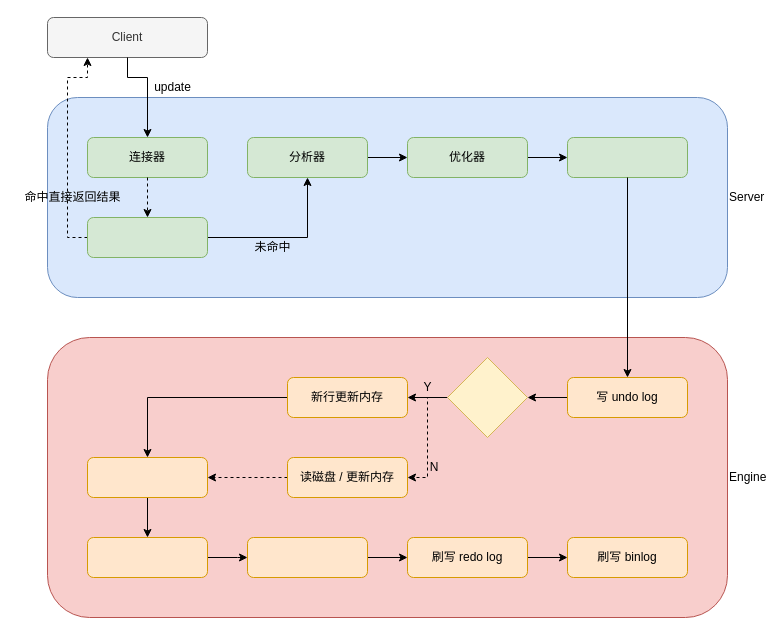
Some shapes in this 783 by 635 pixel diagram are drawn without their labels. Here are the shapes that lost their labels. From the top down, the centre of each, then its label:
At point 627,157: "执行器".
At point 147,237: "查询缓存".
At point 487,397: "记录所在页存在于内存中".
At point 147,477: "写 redo log / prepare 预提交状态".
At point 147,557: "写 binlog".
At point 307,557: "提交事务 / redo log commit 提交状态".
